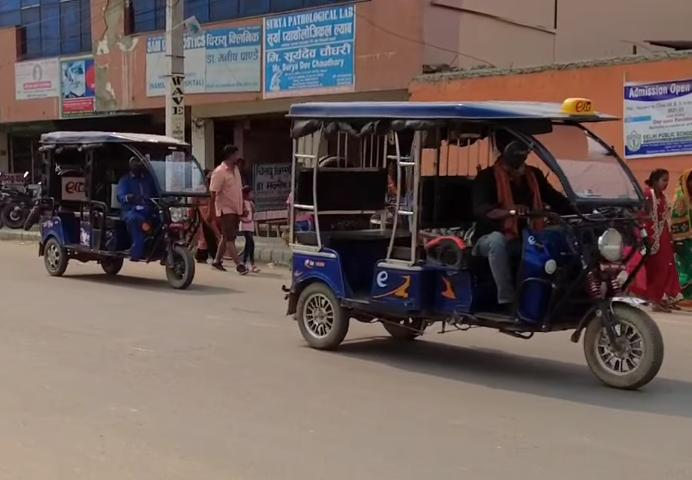e-rickshaw: (279, 94, 666, 397), (37, 124, 214, 290)
